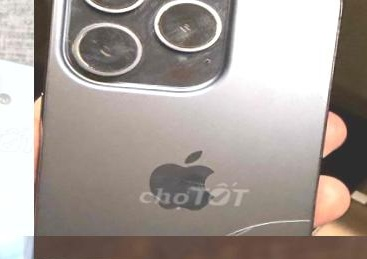physical_damage: (34, 184, 316, 236)
scratch: (34, 0, 234, 90)
